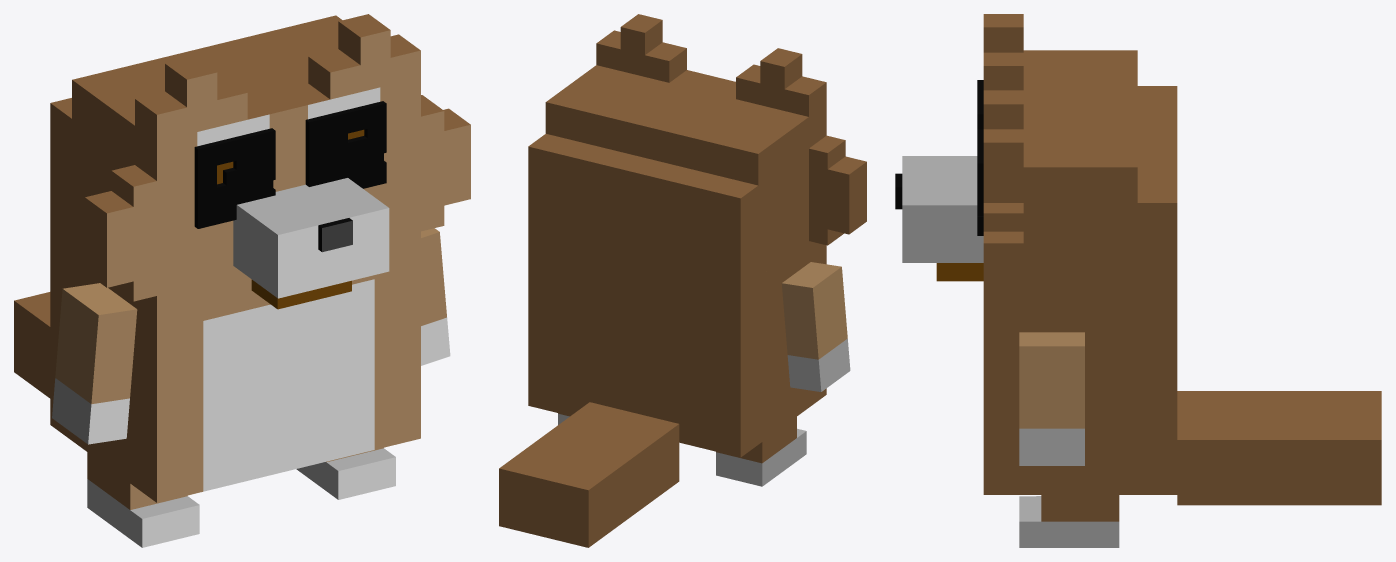
3 views of the same model, side by side, from view 1: azimuth 30°, elevation 25°; view 2: azimuth 150°, elevation 25°; view 3: azimuth 270°, elevation 25° (orthographic). The views are drawn at different scales.
Visible parts, largest first — view 1: Ch_181_Head, Ch_181, Ch_181_Arm_L, Ch_181_Leg_L, Ch_181_Eye_03_L, Ch_181_Eye_03_R, Ch_181_Eye_01, Ch_181_Tail, Ch_181_Arm_R, Ch_181_Leg_R, Ch_181_Eye_02; view 2: Ch_181_Head, Ch_181, Ch_181_Tail, Ch_181_Arm_L, Ch_181_Leg_L; view 3: Ch_181_Head, Ch_181, Ch_181_Tail, Ch_181_Arm_R, Ch_181_Leg_R, Ch_181_Eye_03_R.
Boxes of the visible parts, left/top/right/bottom form: Ch_181_Head: left=50, top=14, right=470, bottom=309; Ch_181: left=50, top=218, right=420, bottom=502; Ch_181_Arm_L: left=52, top=283, right=137, bottom=444; Ch_181_Leg_L: left=87, top=452, right=199, bottom=547; Ch_181_Eye_03_L: left=194, top=128, right=275, bottom=228; Ch_181_Eye_03_R: left=305, top=101, right=386, bottom=188; Ch_181_Eye_01: left=233, top=133, right=347, bottom=204; Ch_181_Tail: left=14, top=292, right=50, bottom=398; Ch_181_Arm_R: left=421, top=228, right=450, bottom=365; Ch_181_Leg_R: left=296, top=447, right=395, bottom=499; Ch_181_Eye_02: left=217, top=147, right=383, bottom=203; Ch_181_Head: left=528, top=14, right=866, bottom=290; Ch_181: left=528, top=239, right=826, bottom=457; Ch_181_Tail: left=499, top=402, right=679, bottom=547; Ch_181_Arm_L: left=781, top=262, right=850, bottom=391; Ch_181_Leg_L: left=716, top=417, right=806, bottom=486; Ch_181_Head: left=895, top=14, right=1177, bottom=317; Ch_181: left=983, top=307, right=1177, bottom=494; Ch_181_Tail: left=1177, top=391, right=1381, bottom=505; Ch_181_Arm_R: left=1019, top=332, right=1084, bottom=465; Ch_181_Leg_R: left=1019, top=495, right=1119, bottom=547; Ch_181_Eye_03_R: left=977, top=129, right=983, bottom=235.
Size of the model in its own units: 7.85 by 9.82 by 10.01.
